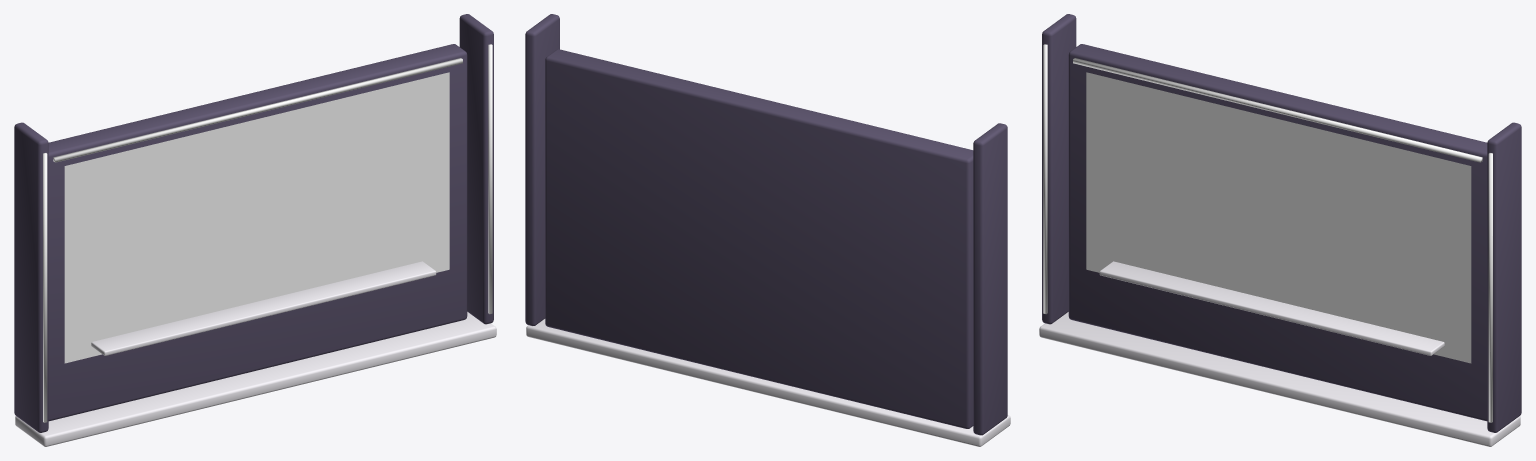
The model's file is stand_wall.glb.
3 renders of one model, left to right at view 1: azimuth 30°, elevation 25°; view 2: azimuth 150°, elevation 25°; view 3: azimuth 330°, elevation 25°, orthographic.
Visible parts, largest first — view 1: panel; view 2: panel; view 3: panel.
Boxes of the visible parts, <box> form: panel: <box>14,14,496,446</box>; panel: <box>525,14,1010,446</box>; panel: <box>1039,14,1521,446</box>.
Bounding box in the file's own units: 6.04 × 3.84 × 0.7.
